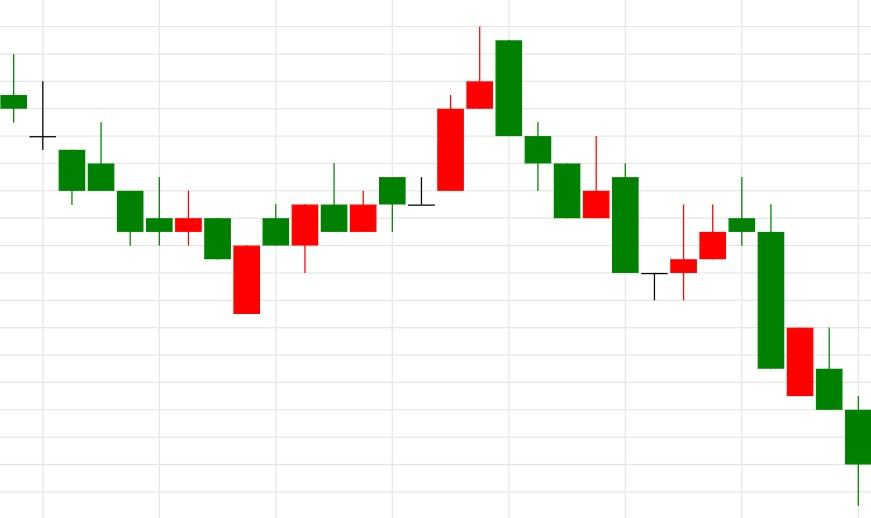shooting_star_fall: (233, 25, 494, 315)
